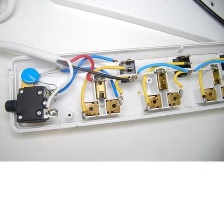three_eye_plug: (1, 38, 223, 136)
